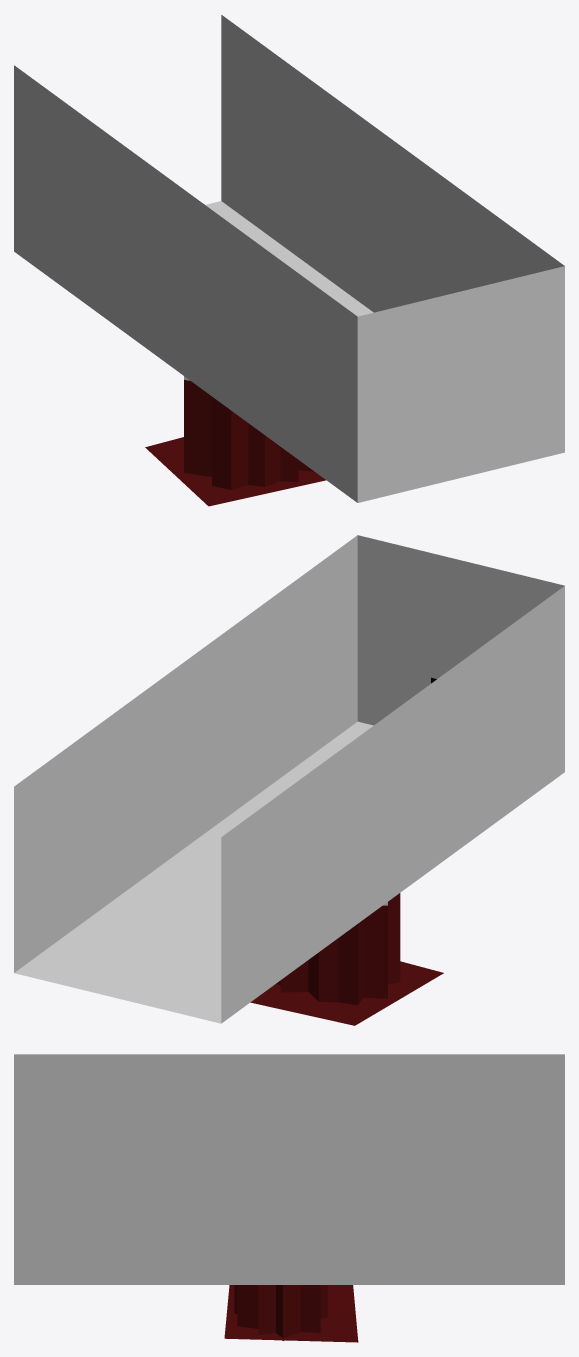
File: Level1.FBX
3 views of the same model, one above another, from view 1: azimuth 30°, elevation 25°; view 2: azimuth 150°, elevation 25°; view 3: azimuth 270°, elevation 25° (orthographic). The views are drawn at different scales.
Parts seen in each view (by area): view 1: Default_Walls, God_Hole, Default_Ground; view 2: Default_Walls, Default_Ground, God_Hole; view 3: Default_Walls, God_Hole.
Part boxes in pixels (box(x1,y1,x2,y2)): Default_Walls: box(14, 15, 564, 502); God_Hole: box(145, 376, 325, 506); Default_Ground: box(205, 201, 373, 316); Default_Walls: box(14, 535, 564, 1023); Default_Ground: box(14, 721, 373, 1023); God_Hole: box(250, 893, 443, 1025); Default_Walls: box(14, 1054, 564, 1284); God_Hole: box(224, 1285, 358, 1342).
Bounding box in the file's own units: 567 × 1523 × 706.
